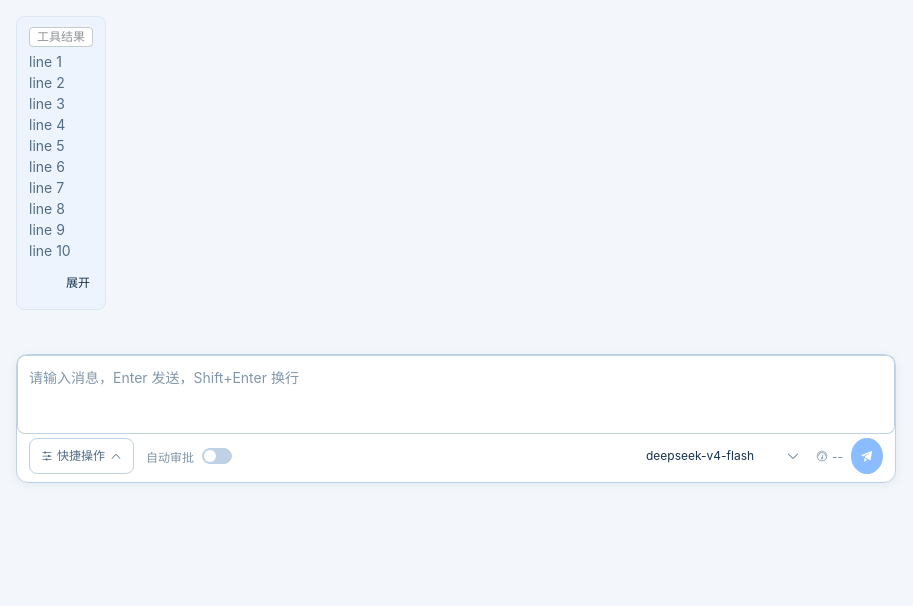
it: AgentChat › collapses long tool output and toggles expand/collapse
What coordinates should you click on to do the following:
click the button "展开"
I would click on:
 (78, 283)
Its box is x1=63 y1=265 x2=93 y2=301.
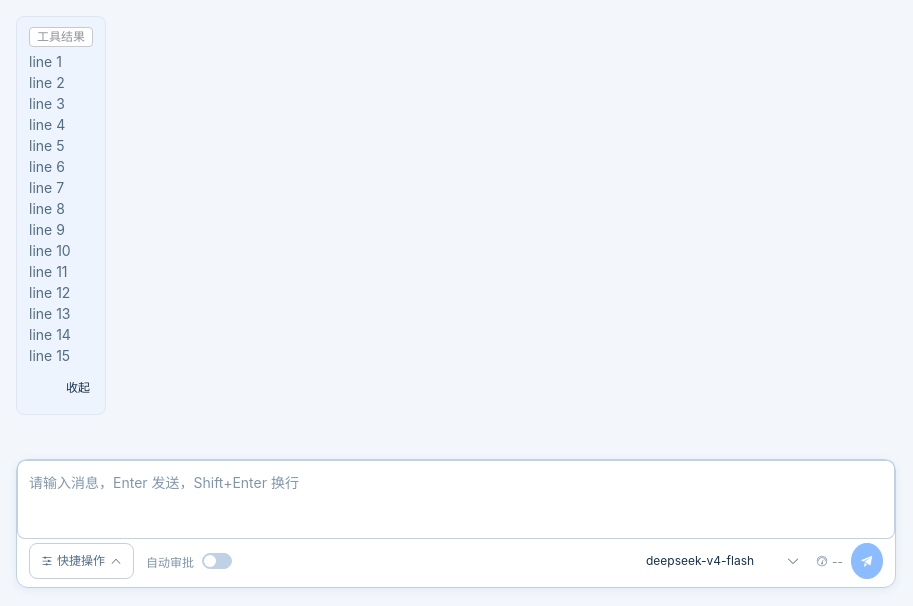
Expected: the button "收起" is shown
What coordinates should you click on to do the following:
click the button "收起"
I would click on:
 (78, 388)
Its box is x1=63 y1=370 x2=93 y2=406.
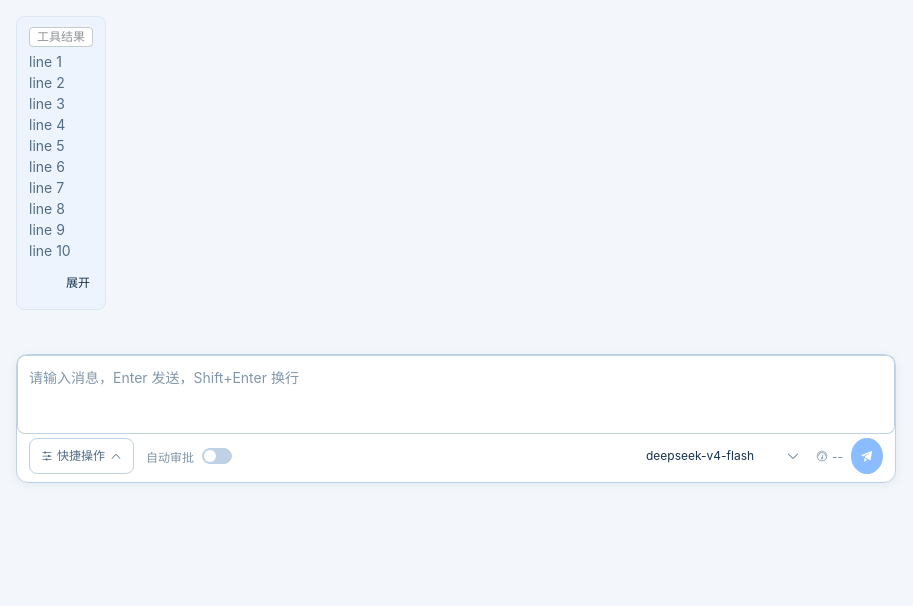
Expected: the button "展开" is shown, x1=63 y1=265 x2=93 y2=301
